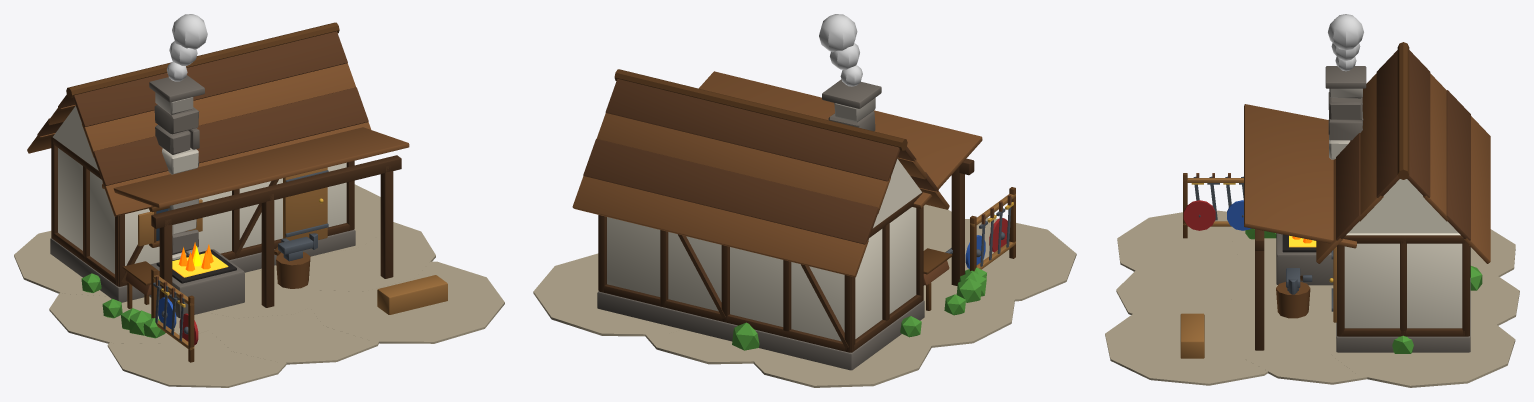
Rendered from kuznia_poz07.glb.
3 renders of one model, left to right at view 1: azimuth 30°, elevation 25°; view 2: azimuth 150°, elevation 25°; view 3: azimuth 270°, elevation 25°, orthographic. The views are drawn at different scales.
Visible parts, largest first — view 1: kuznia_poz07; view 2: kuznia_poz07; view 3: kuznia_poz07.
Part boxes in pixels (x1=…): kuznia_poz07: x1=14, y1=14, x2=504, y2=387; kuznia_poz07: x1=533, y1=14, x2=1076, y2=387; kuznia_poz07: x1=1105, y1=14, x2=1519, y2=387.
Size of the model in its own units: 8.78 by 6.16 by 8.65.
